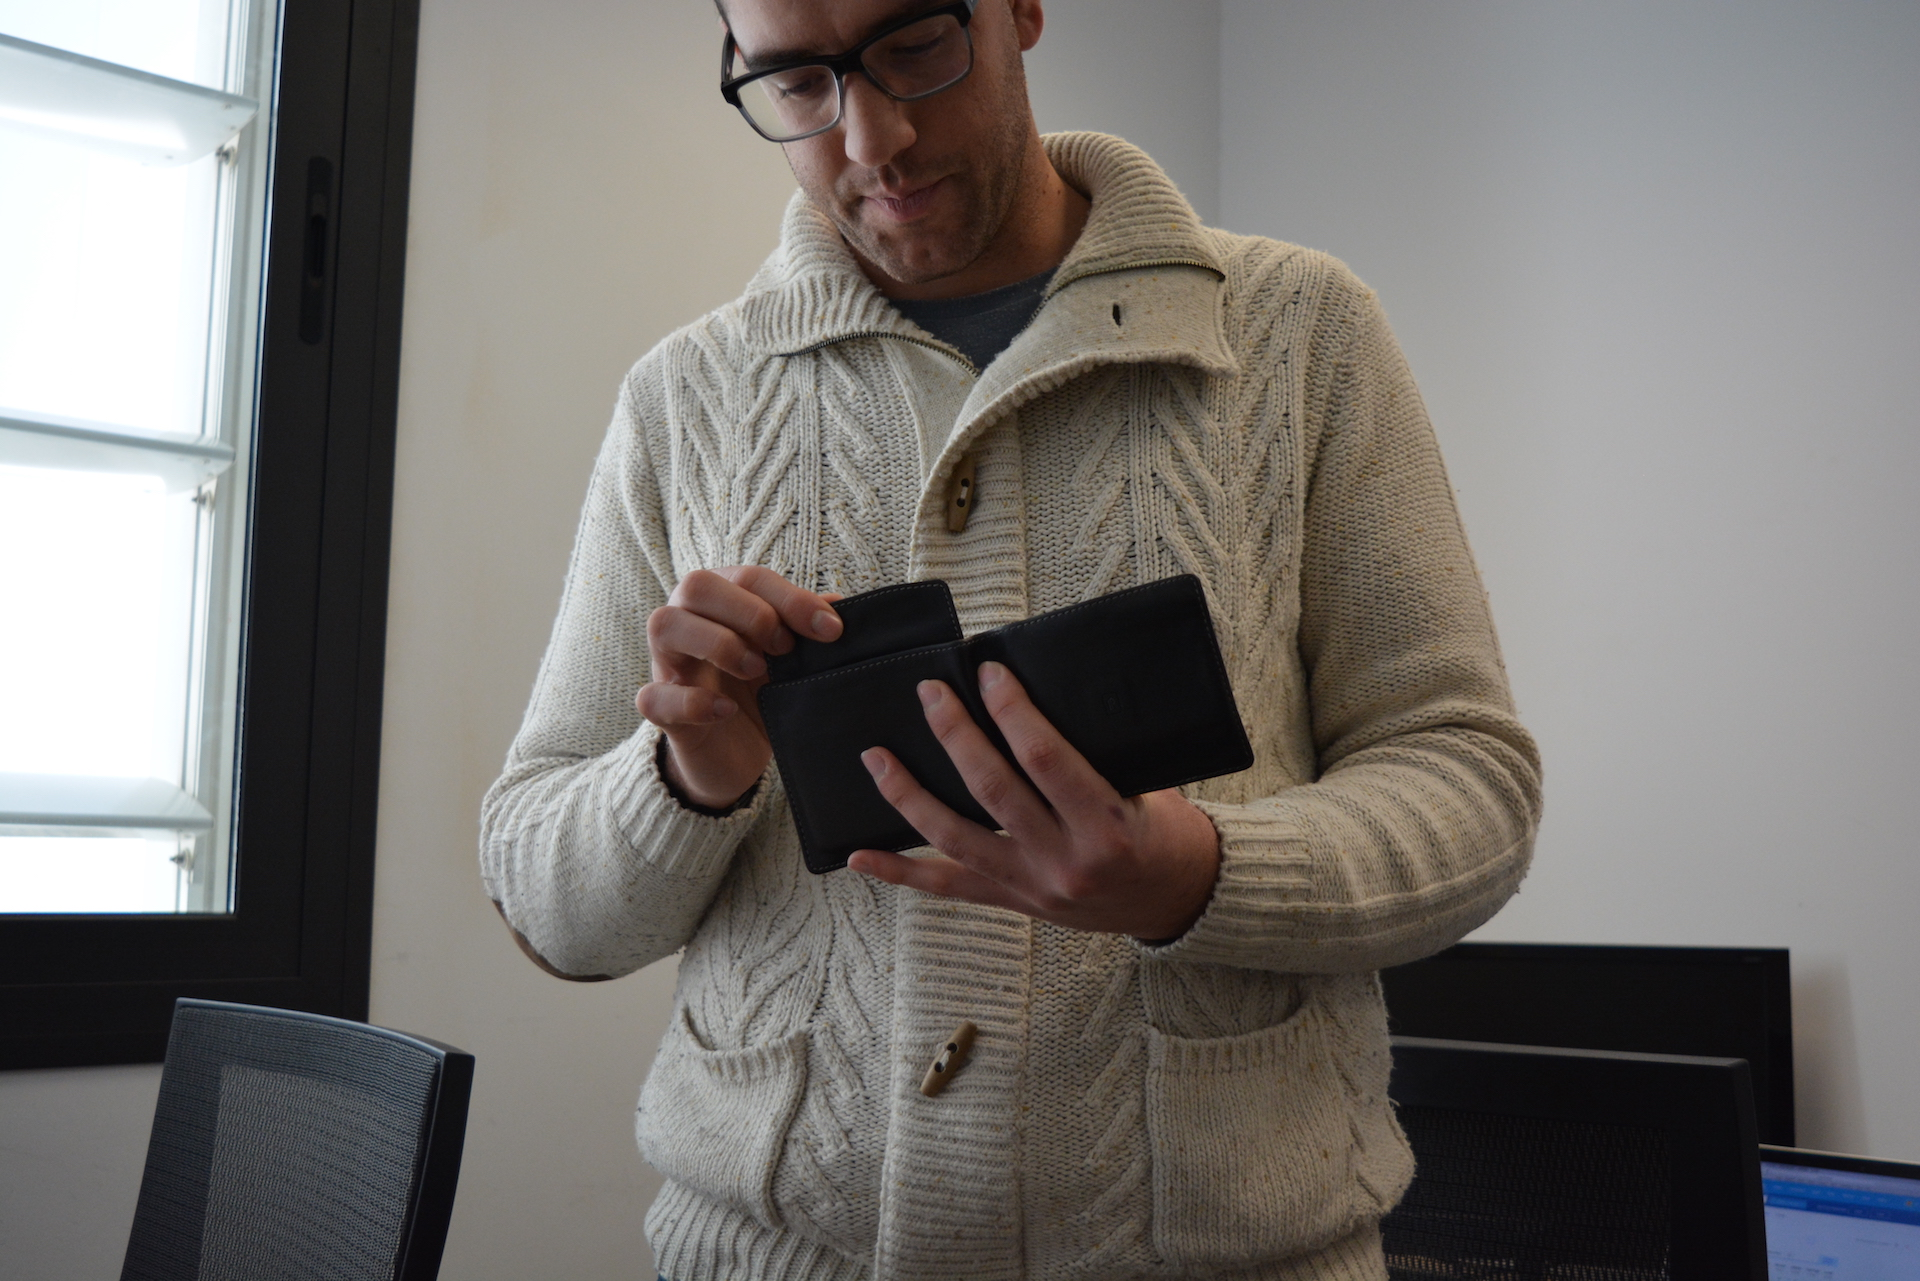monedero: (755, 569, 1260, 881)
